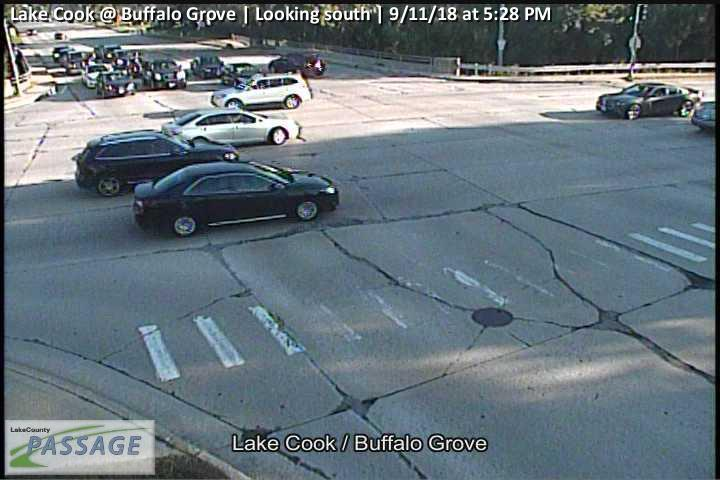SUV: (73, 129, 240, 197), (211, 72, 312, 109), (270, 53, 327, 77), (143, 59, 186, 89)
Sedan: (134, 161, 339, 234), (162, 107, 300, 147), (596, 83, 701, 119), (97, 73, 135, 98), (192, 54, 225, 78), (84, 64, 110, 87)
